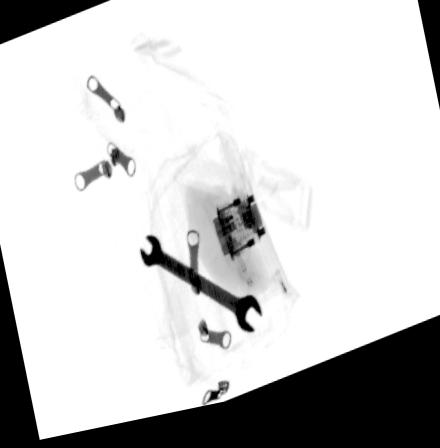Wrench: (138, 238, 264, 342)
